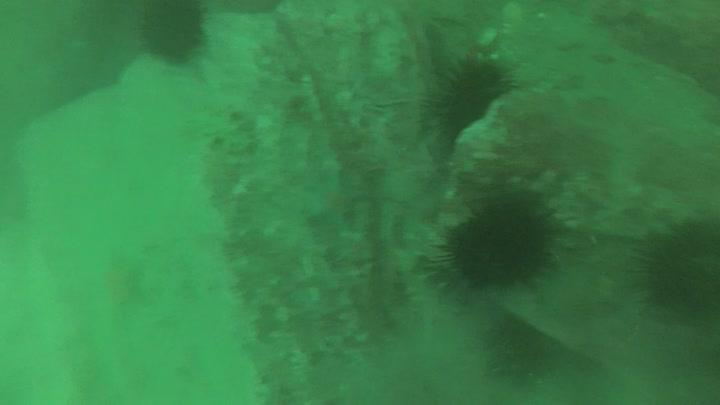urchin: (428, 180, 561, 307), (627, 208, 720, 330), (415, 53, 513, 140), (127, 2, 215, 69)
